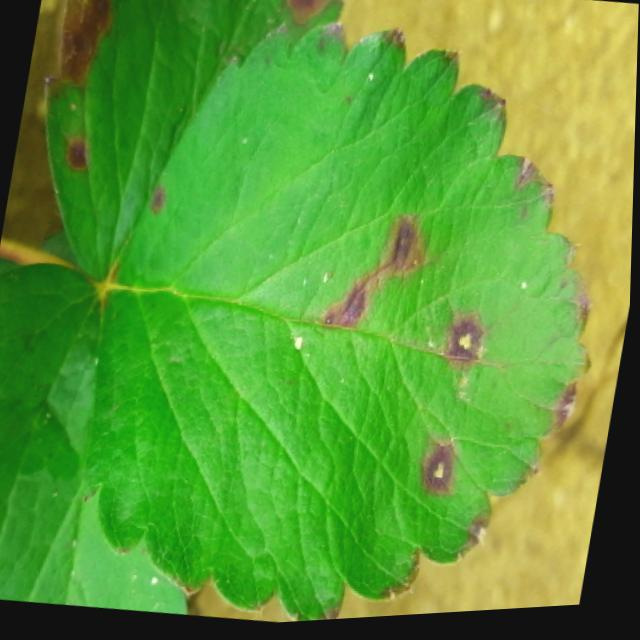Leaf Spot: (87, 25, 594, 625), (45, 0, 353, 289)
